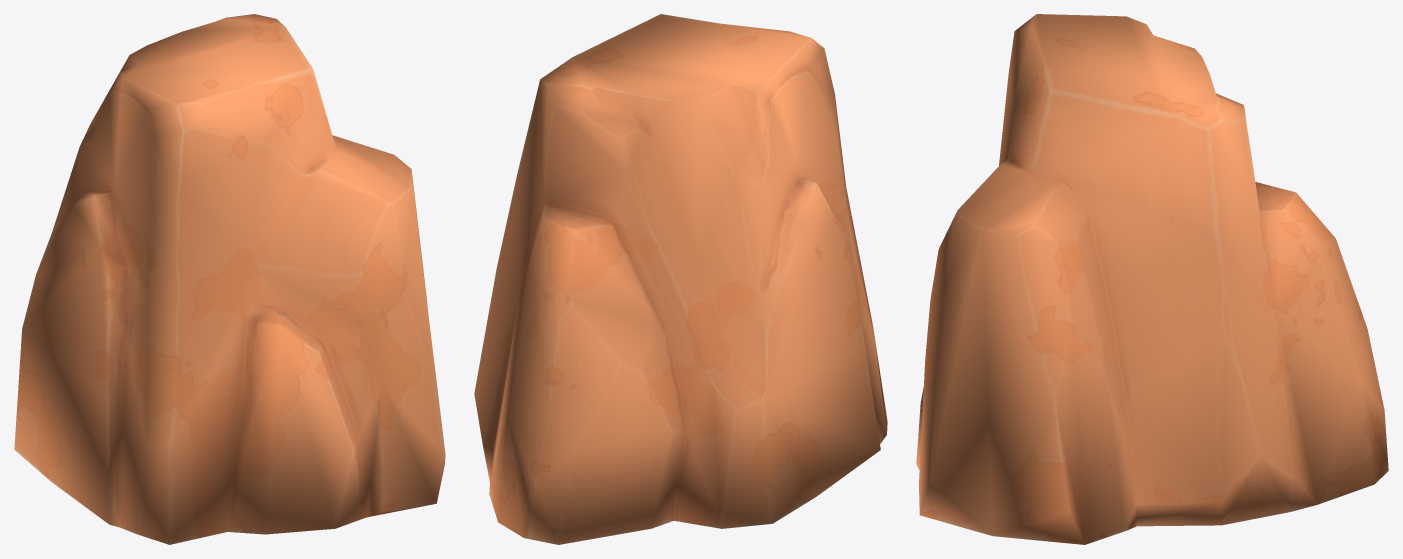
The model's file is Rock_3.fbx.
The picture shows the model from 3 angles, left to right: view 1: azimuth 30°, elevation 25°; view 2: azimuth 150°, elevation 25°; view 3: azimuth 270°, elevation 25°; orthographic projection.
Parts seen in each view (by area): view 1: Rock_3; view 2: Rock_3; view 3: Rock_3.
Boxes of the visible parts, x1,y1,x2,y2 form: Rock_3: (14,14,445,544); Rock_3: (474,14,887,544); Rock_3: (916,14,1388,544).
Bounding box in the file's own units: 215 × 245 × 260.
